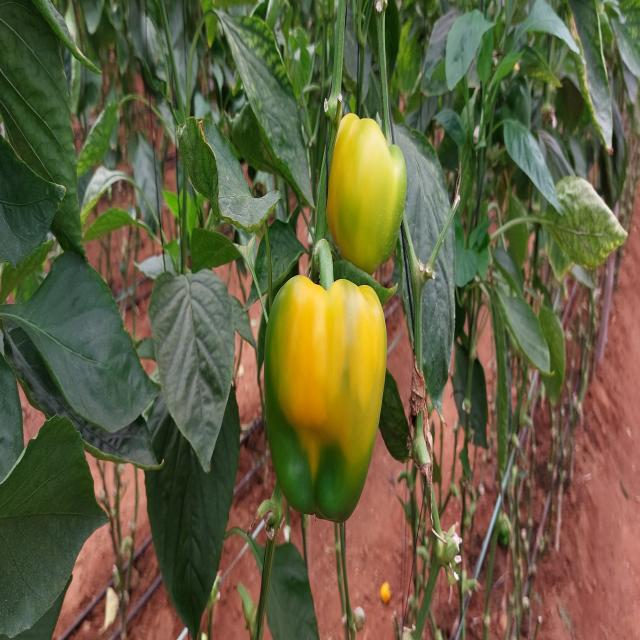GreenishYellow--Can-be-Harvested: (257, 239, 391, 533), (316, 111, 412, 258)
